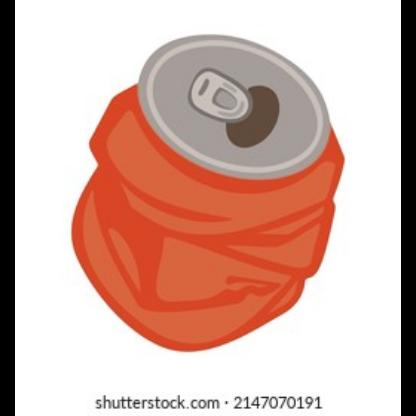Dent_Can: (78, 138, 338, 332)
Lid_Open: (186, 58, 306, 152)
Tin_Can: (75, 34, 348, 354)
